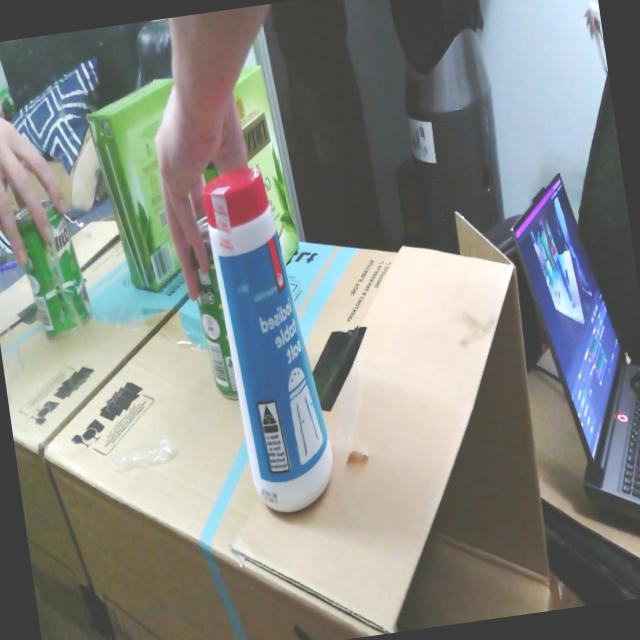nestle_milo_tin: (195, 216, 238, 399)
twinings_greentea_box: (234, 66, 299, 264), (204, 163, 221, 184)
woolworths_salt_bottle: (203, 167, 333, 512)
